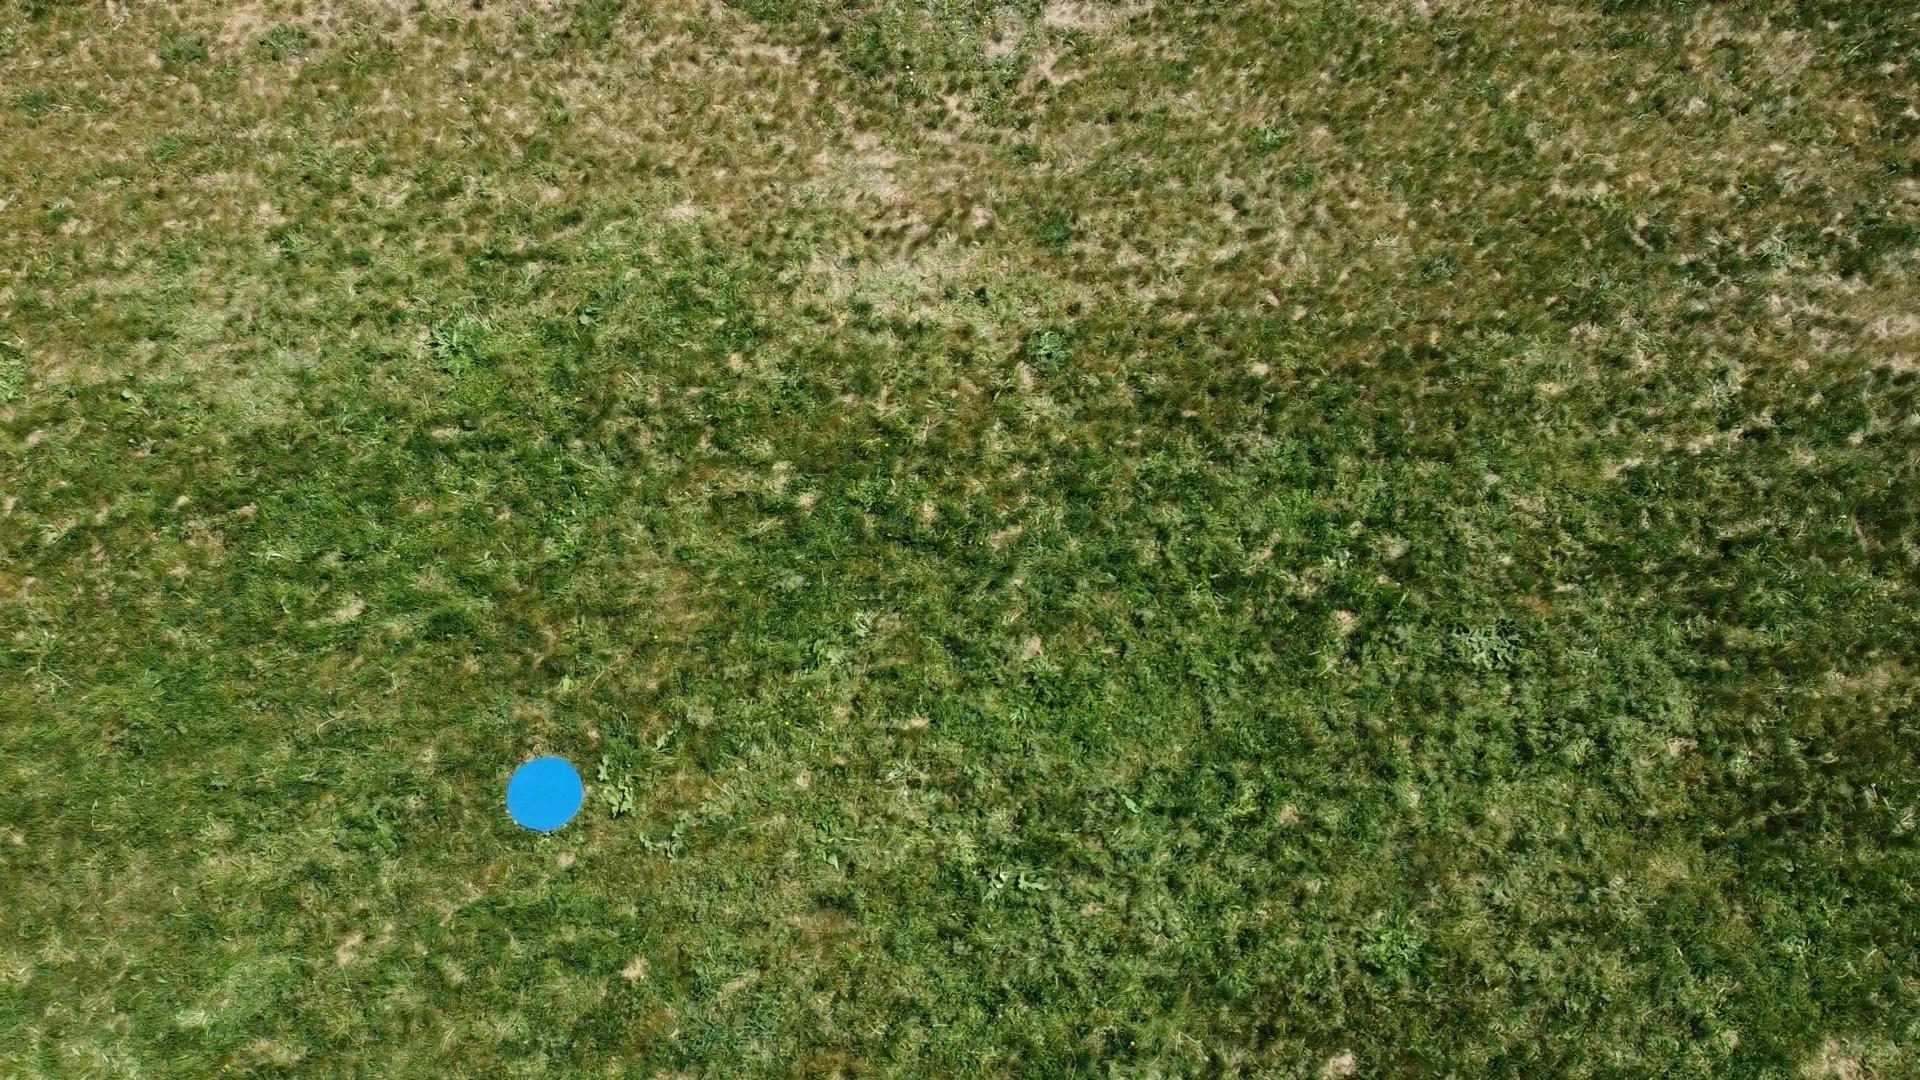Blue: (500, 754, 589, 836)
